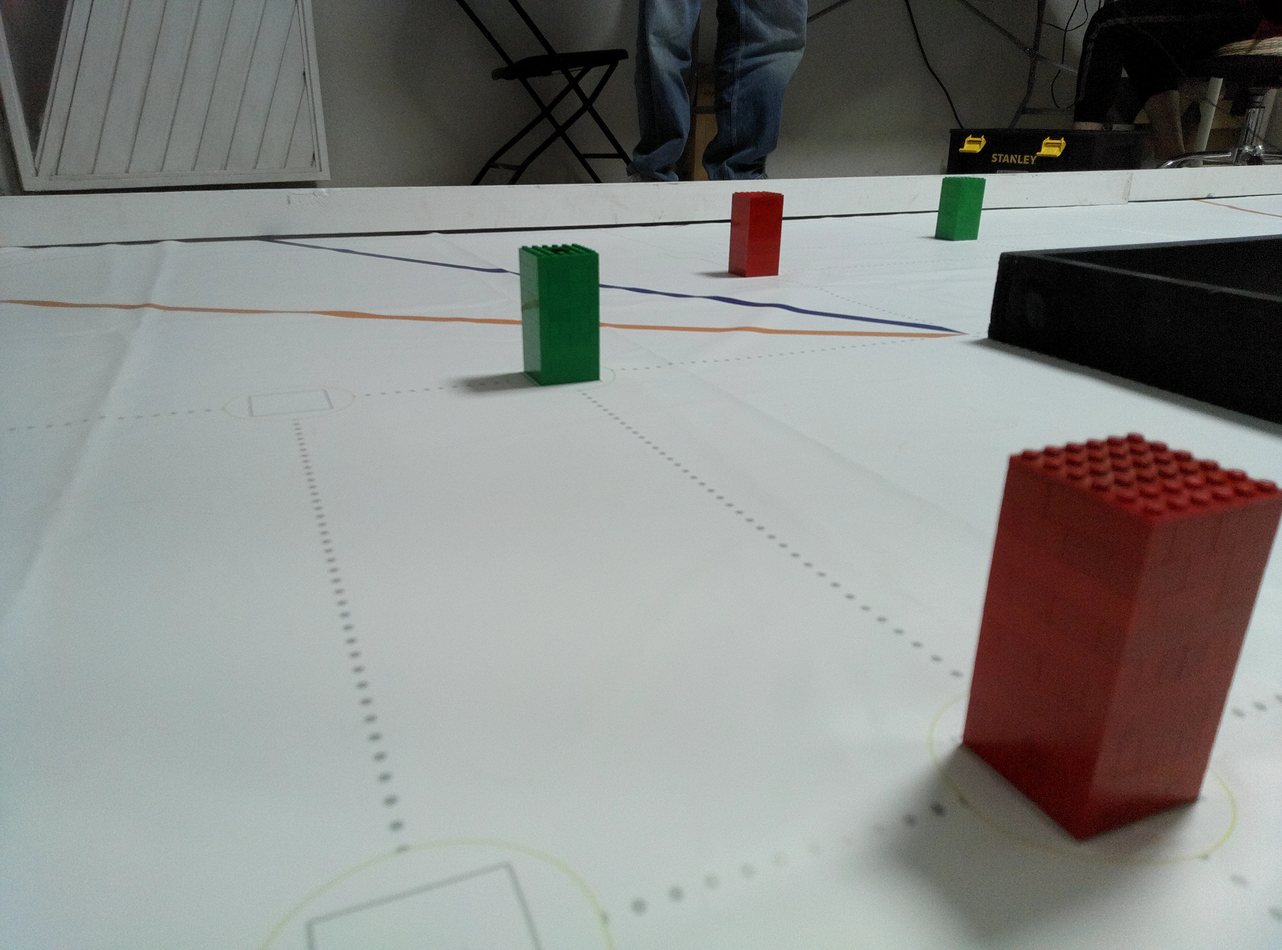greenbox: (516, 243, 604, 390), (933, 176, 986, 242)
redbox: (959, 429, 1281, 850), (725, 189, 786, 281)
